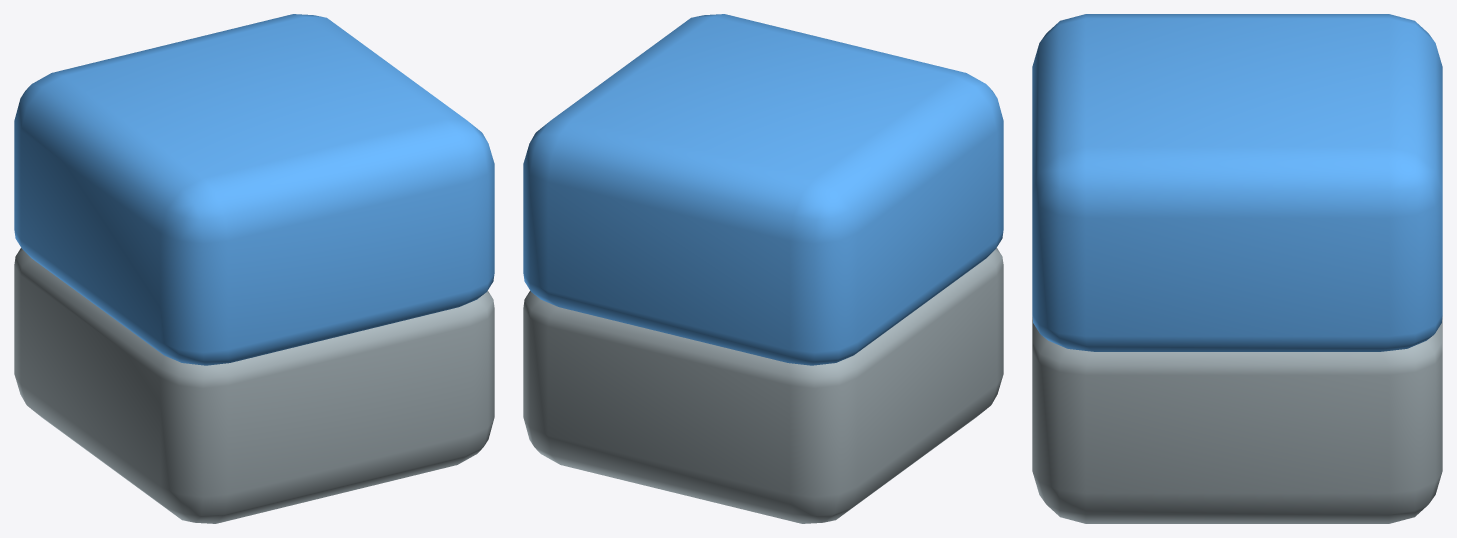
Rendered from tileSmall_teamBlue.glb.
3 views of the same model, side by side, from view 1: azimuth 30°, elevation 25°; view 2: azimuth 150°, elevation 25°; view 3: azimuth 270°, elevation 25° (orthographic). The views are drawn at different scales.
Visible parts, largest first — view 1: tileSmall_teamBlue; view 2: tileSmall_teamBlue; view 3: tileSmall_teamBlue.
Part boxes in pixels (<box>): tileSmall_teamBlue: <box>14,14,494,523</box>; tileSmall_teamBlue: <box>523,14,1003,523</box>; tileSmall_teamBlue: <box>1032,14,1442,523</box>.
Size of the model in its own units: 0.3 by 0.3 by 0.3.
